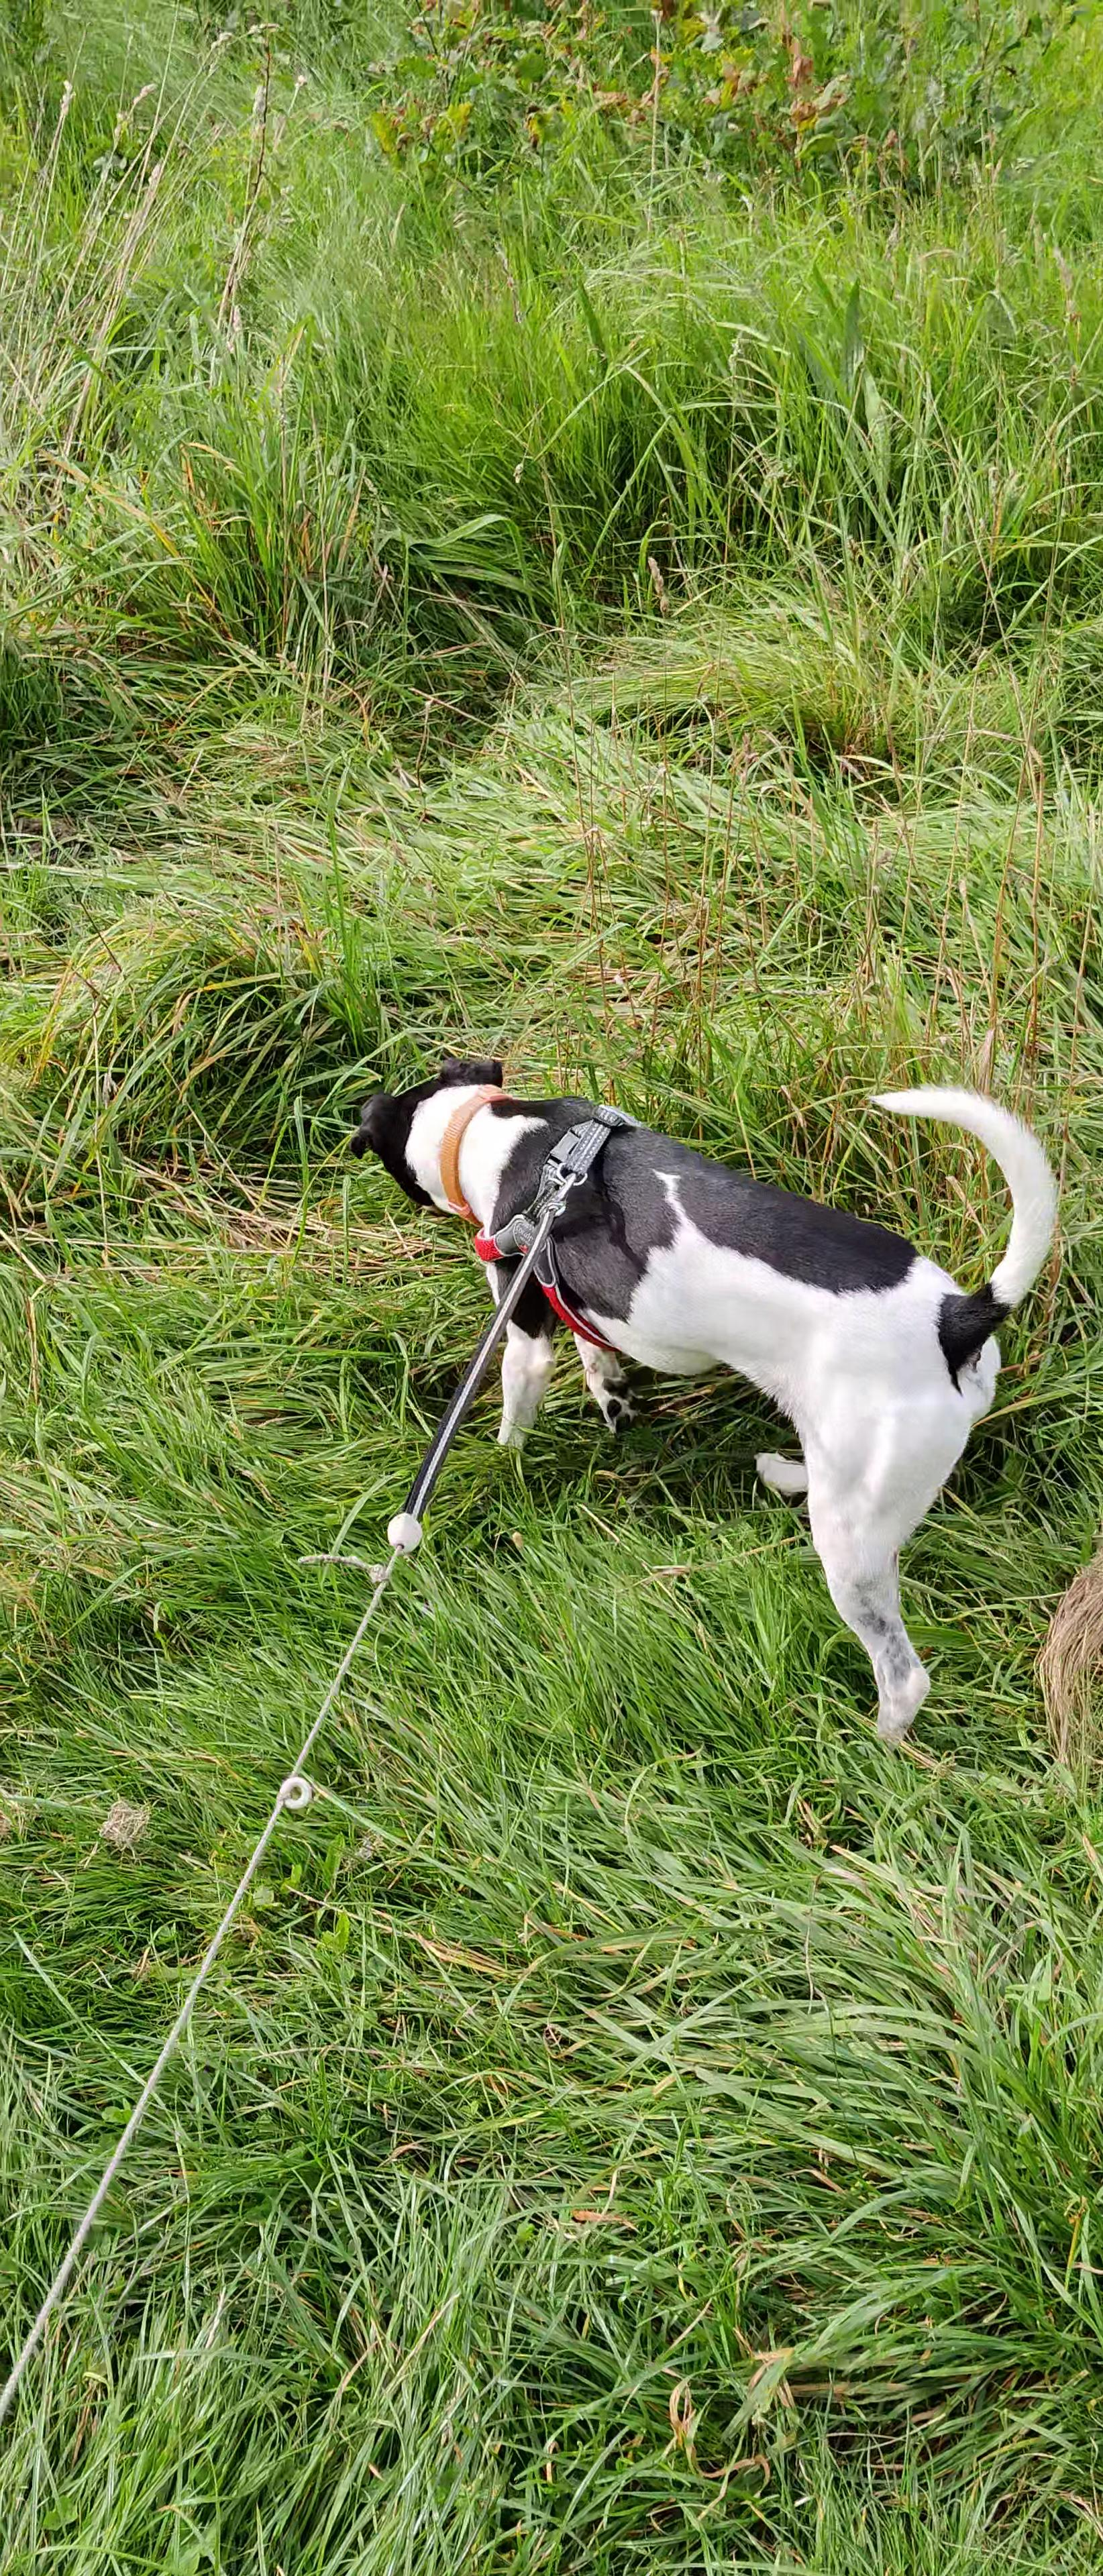Dog: (345, 1023, 1075, 1764)
